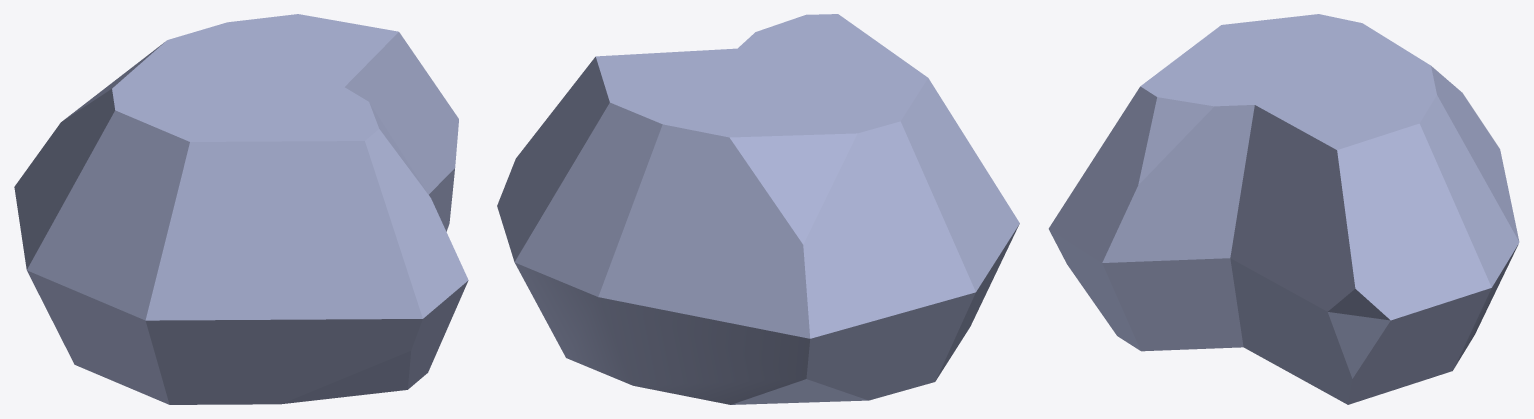
File: rock_large.glb
The picture shows the model from 3 angles, left to right: view 1: azimuth 30°, elevation 25°; view 2: azimuth 150°, elevation 25°; view 3: azimuth 270°, elevation 25°; orthographic projection. The views are drawn at different scales.
Parts seen in each view (by area): view 1: rock_large; view 2: rock_large; view 3: rock_large.
Part boxes in pixels (x1,y1,x2,y2): rock_large: (14,14,468,404); rock_large: (497,14,1019,404); rock_large: (1048,14,1519,404).
Size of the model in its own units: 1.07 by 0.5683 by 1.03.
